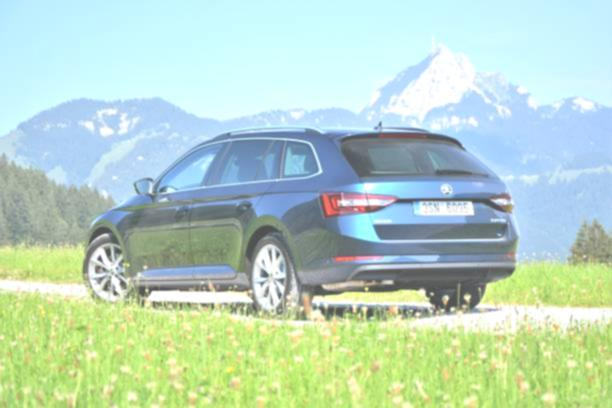skoda: (437, 180, 460, 200)
